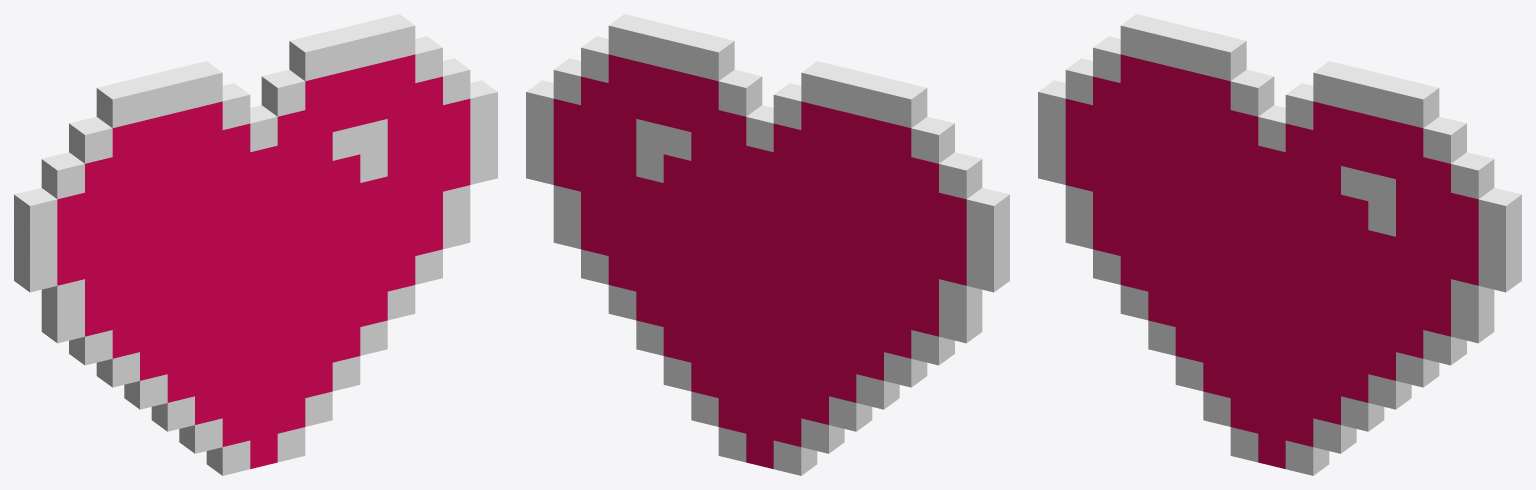
File: love.fbx
The picture shows the model from 3 angles, left to right: view 1: azimuth 30°, elevation 25°; view 2: azimuth 150°, elevation 25°; view 3: azimuth 330°, elevation 25°; orthographic projection.
Visible parts, largest first — view 1: pixel-heart.schematic__-4_0_-4_to_20_255_8; view 2: pixel-heart.schematic__-4_0_-4_to_20_255_8; view 3: pixel-heart.schematic__-4_0_-4_to_20_255_8.
Part boxes in pixels (box(x1,y1,x2,y2)): pixel-heart.schematic__-4_0_-4_to_20_255_8: box(14, 14, 497, 475); pixel-heart.schematic__-4_0_-4_to_20_255_8: box(526, 14, 1009, 475); pixel-heart.schematic__-4_0_-4_to_20_255_8: box(1038, 14, 1521, 475).
Size of the model in its own units: 121 by 100 by 7.14.
